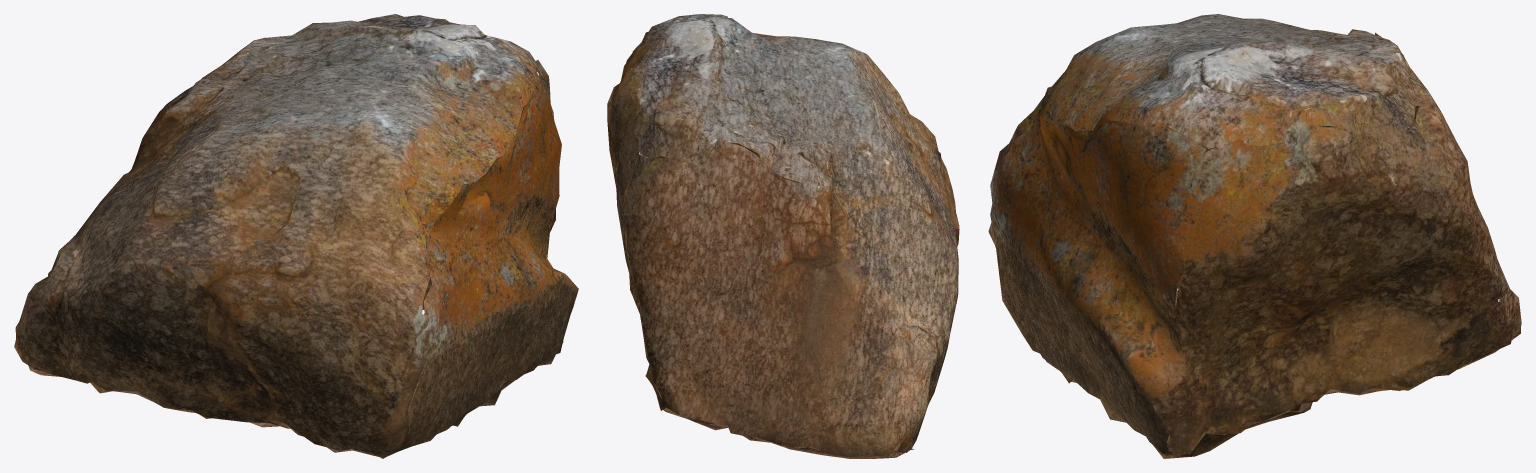
Rendered from namaqualand_boulder_04.glb.
3 renders of one model, left to right at view 1: azimuth 30°, elevation 25°; view 2: azimuth 150°, elevation 25°; view 3: azimuth 270°, elevation 25°, orthographic. The views are drawn at different scales.
Parts seen in each view (by area): view 1: Scanned weathered granite; view 2: Scanned weathered granite; view 3: Scanned weathered granite.
Part boxes in pixels (left/top/right/bottom): Scanned weathered granite: left=14, top=14, right=578, bottom=458; Scanned weathered granite: left=607, top=14, right=959, bottom=458; Scanned weathered granite: left=988, top=14, right=1521, bottom=458.
Size of the model in its own units: 0.9971 by 0.7464 by 0.9882.
1 material, 1 textured.
